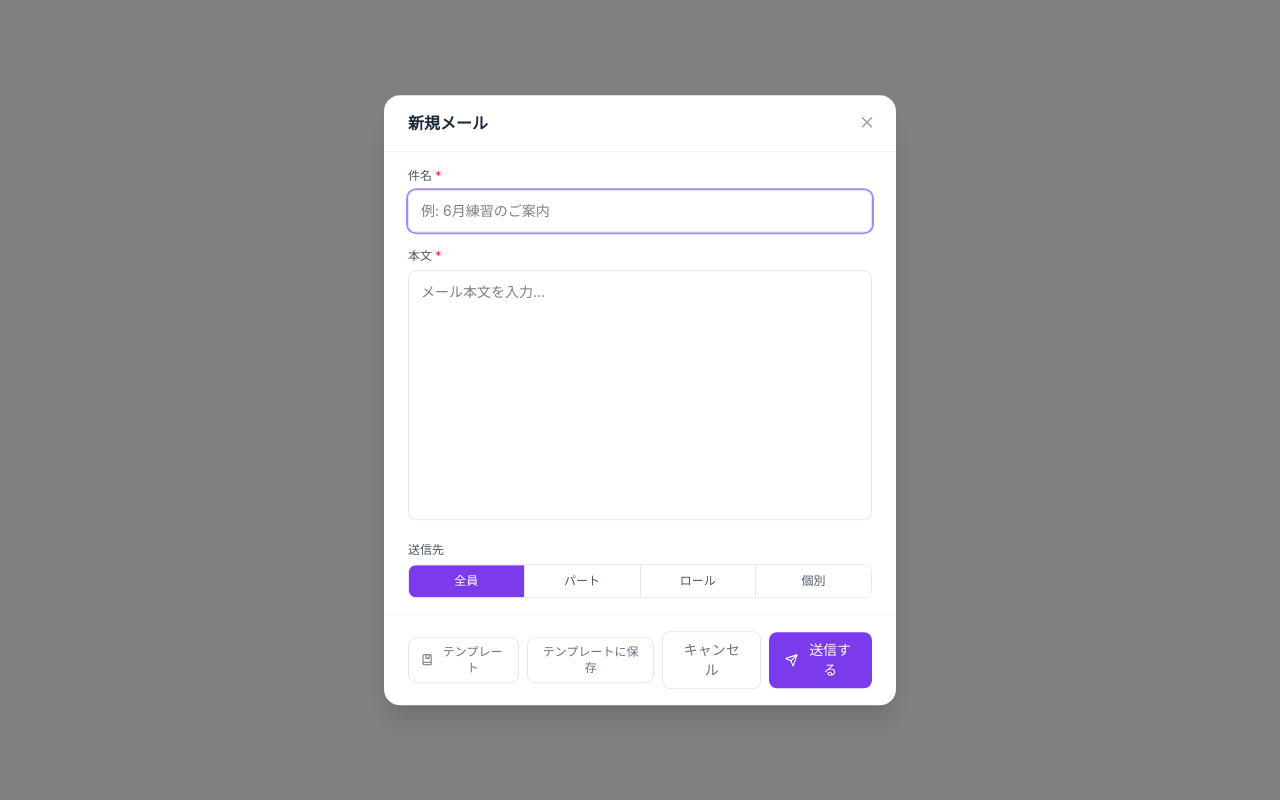
Scenario: ComposeModal（バリデーション） › 本文未入力で送信するとエラーメッセージを表示する
Type "件名です" into the field with placeholder "例: 6月練習のご案内".
click(640, 211); type("件名です")  # box [408, 190, 872, 232]
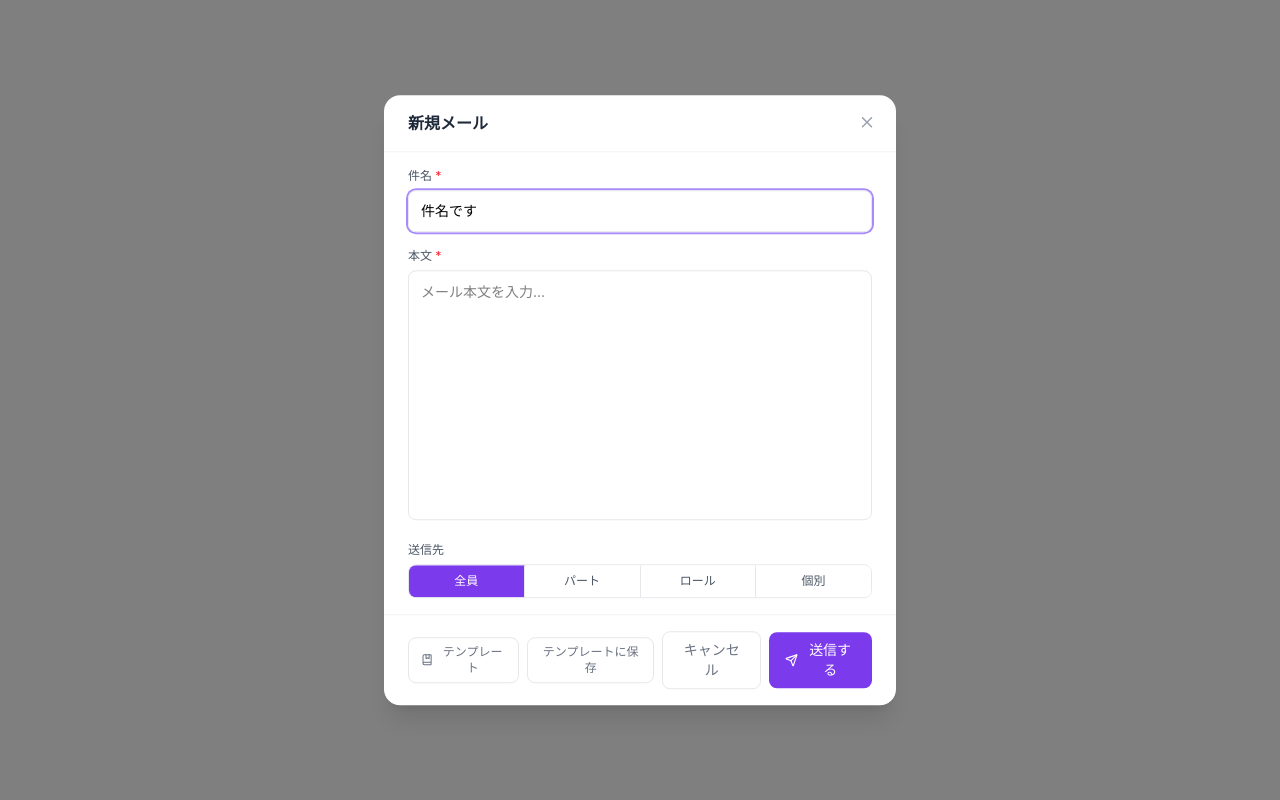
Click the button "送信する".
click(821, 660)  # box [769, 632, 872, 688]
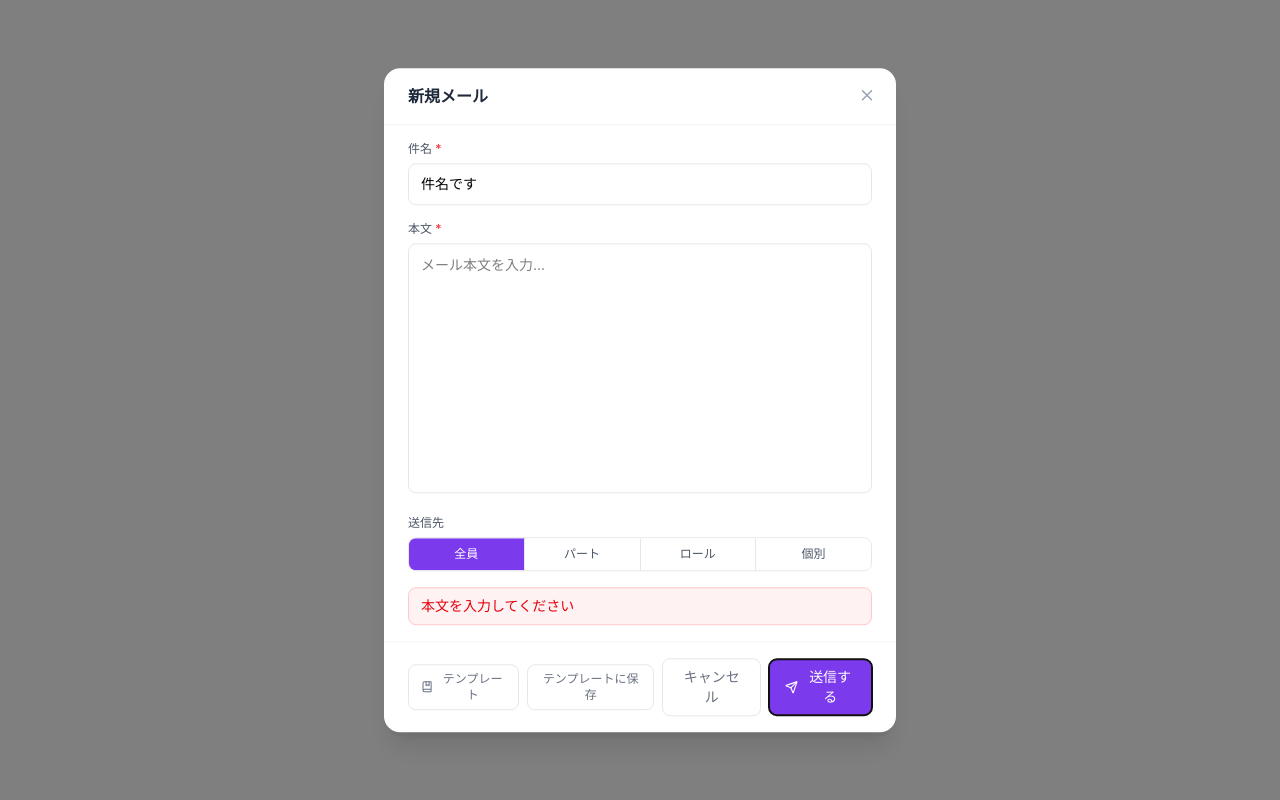
Now the text "本文を入力してください" is shown, box [408, 587, 872, 625]
